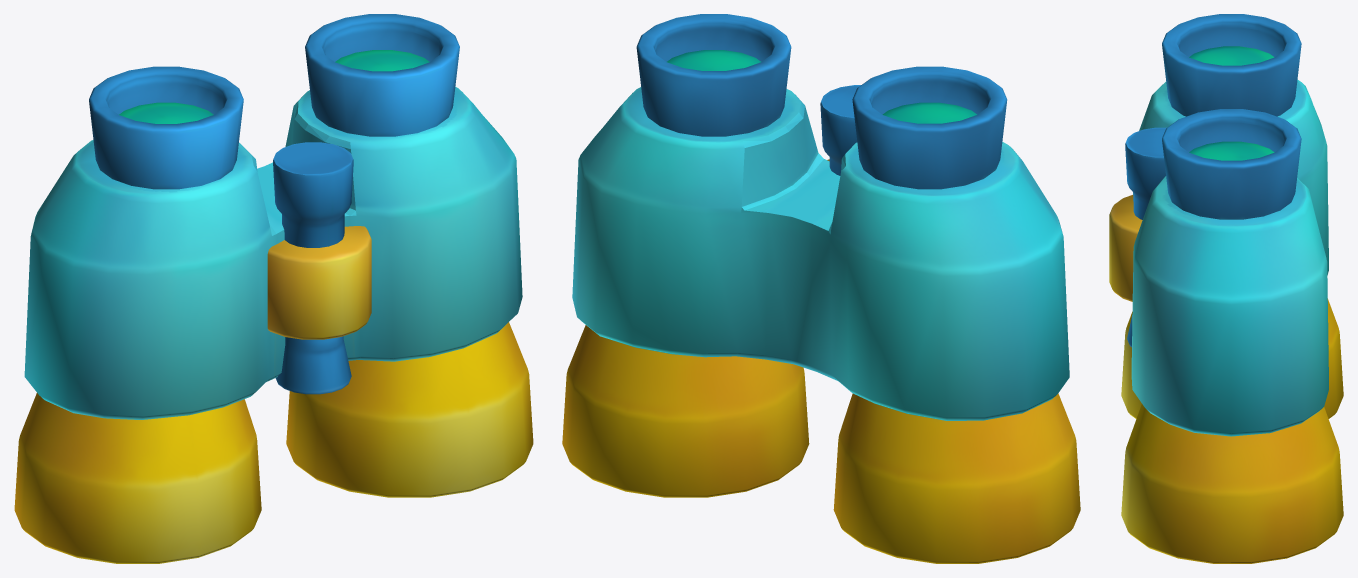
File: WangYuanJing.FBX
The picture shows the model from 3 angles, left to right: view 1: azimuth 30°, elevation 25°; view 2: azimuth 150°, elevation 25°; view 3: azimuth 270°, elevation 25°; orthographic projection. The views are drawn at different scales.
Parts seen in each view (by area): view 1: WangYuanJing; view 2: WangYuanJing; view 3: WangYuanJing.
Boxes of the visible parts, x1,y1,x2,y2 form: WangYuanJing: (14, 14, 533, 563); WangYuanJing: (562, 14, 1080, 563); WangYuanJing: (1109, 14, 1343, 563).
Size of the model in its own units: 113 by 91.28 by 52.54.
